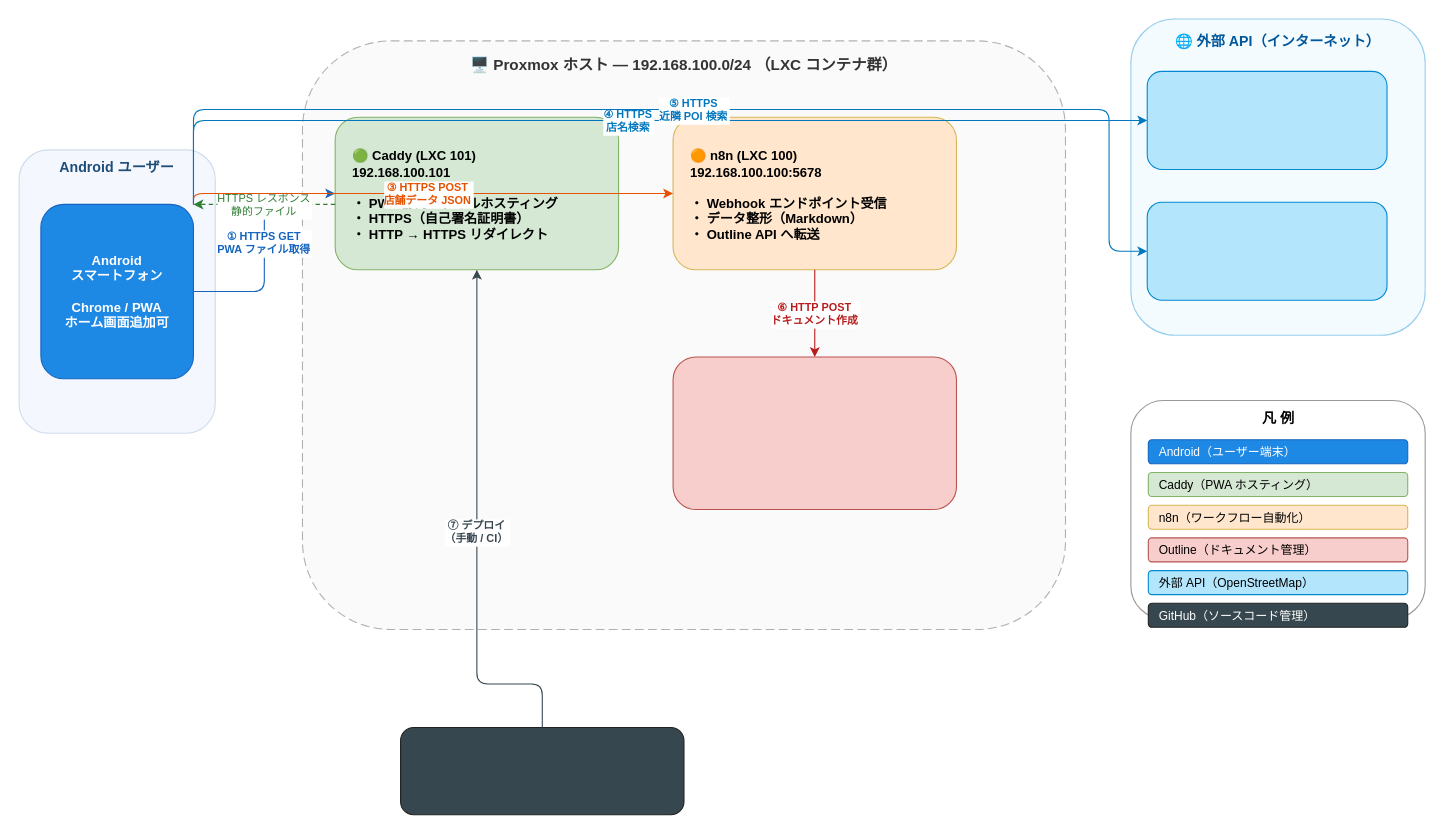
The diagram is 1444 pixels wide and 834 high, and some of its shapes have lost their labels. Here are the shapes that lost their labels. From the top down, the centre of each, then its label:
At point (1266, 119): "Nominatim (OpenStreetMap) 店名検索 逆ジオコーディング".
At point (1266, 250): "Overpass API (OpenStreetMap) 近隣 POI 検索 （半径 300m）".
At point (814, 433): "🔴 Outline (LXC 118) 192.168.100.115:3000 ・ ドキュメント管理 ・「行った店」コレクション ・ 検索 / タグ / 閲覧".
At point (541, 770): "GitHub furanobo/visited-places-pwa ソースコード管理 / デプロイ元".
